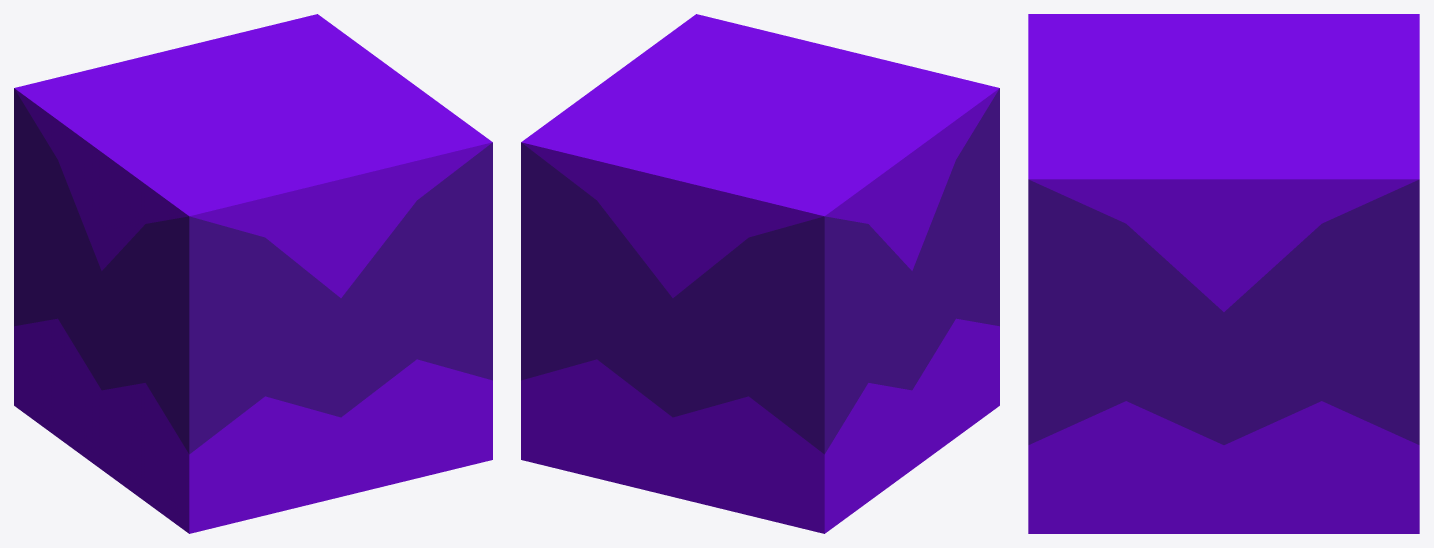
Rendered from Level Two Violet Top Block.fbx.
The picture shows the model from 3 angles, left to right: view 1: azimuth 30°, elevation 25°; view 2: azimuth 150°, elevation 25°; view 3: azimuth 270°, elevation 25°; orthographic projection. The views are drawn at different scales.
Parts seen in each view (by area): view 1: Cube; view 2: Cube; view 3: Cube.
Part boxes in pixels (<box>): Cube: <box>14,14,492,533</box>; Cube: <box>521,14,999,533</box>; Cube: <box>1028,14,1419,533</box>.
Bounding box in the file's own units: 200 × 200 × 200.
